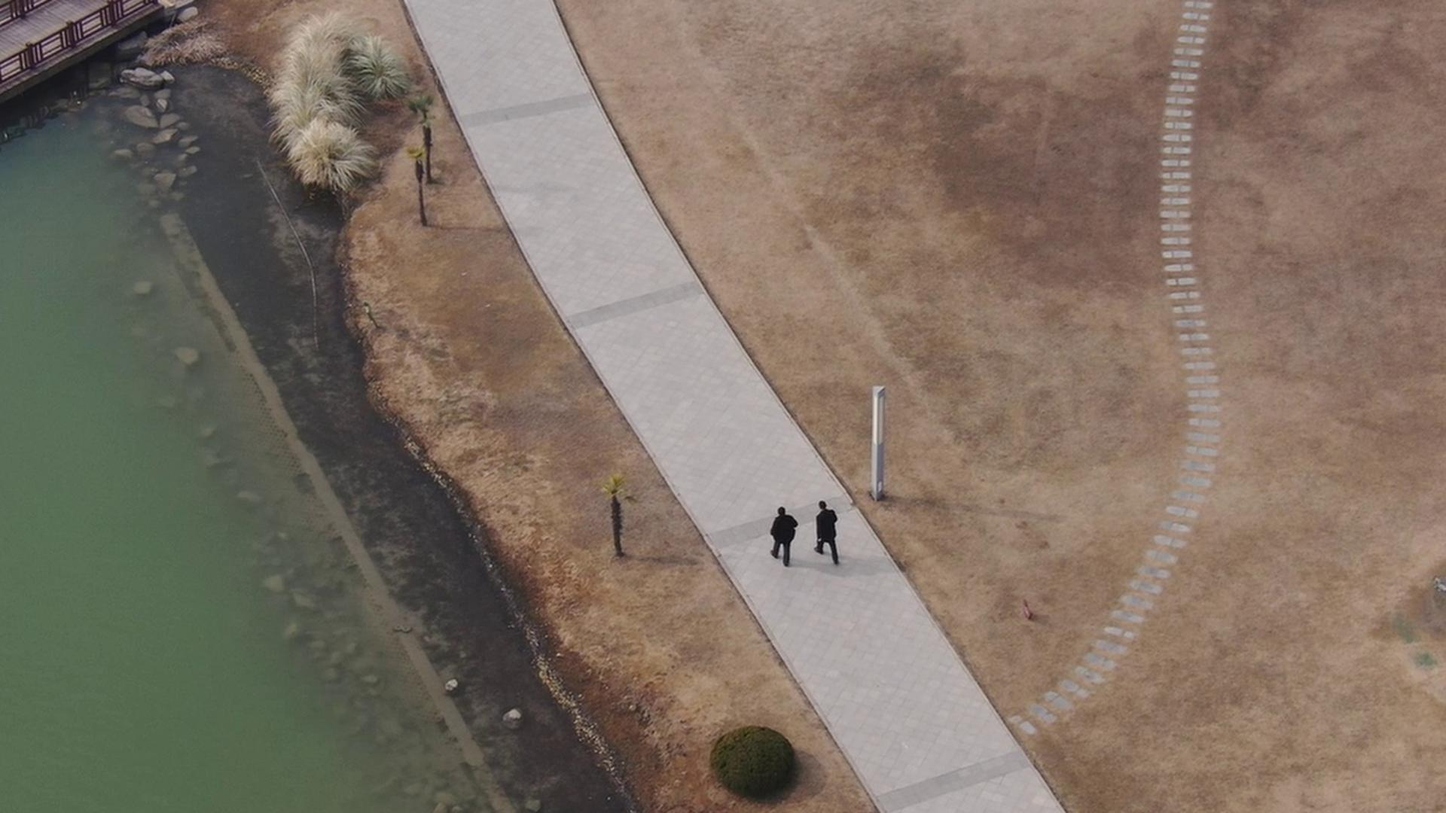human: (801, 492, 847, 565), (763, 497, 801, 575)
